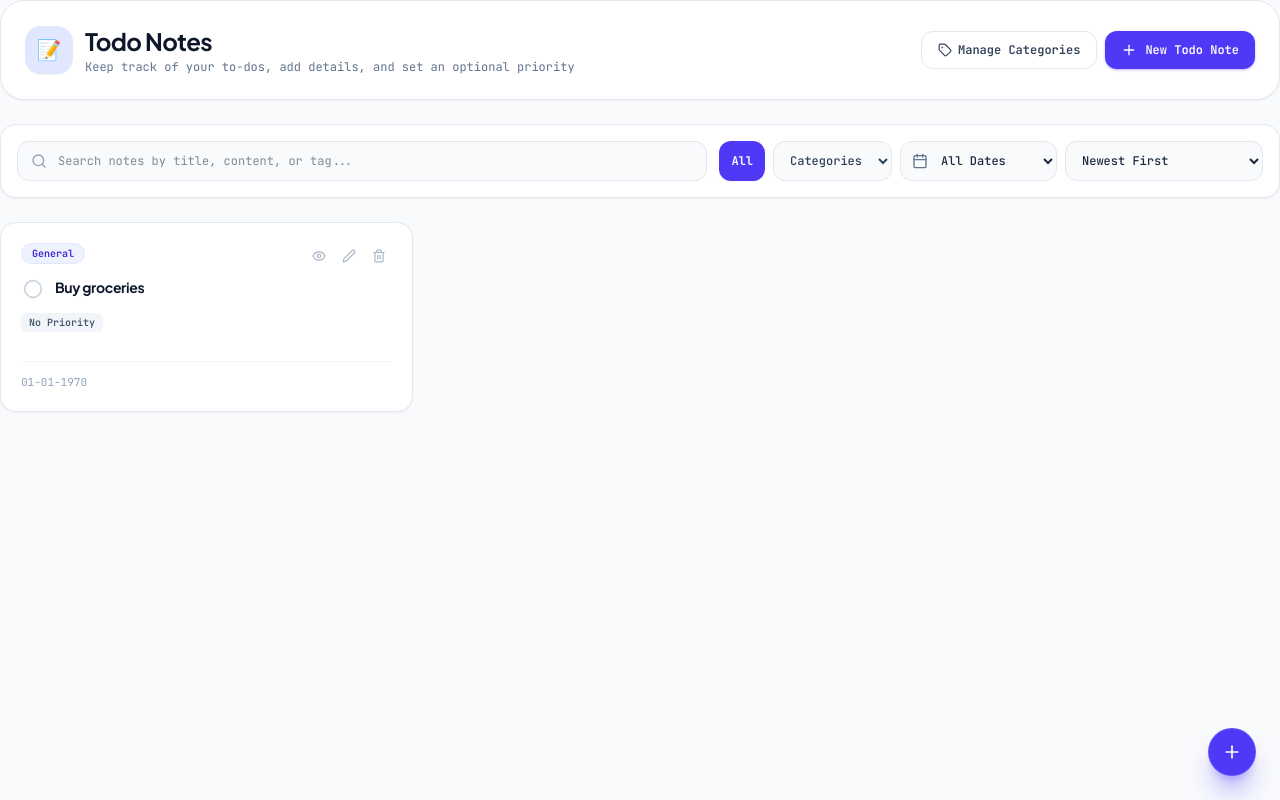
Test case: does not restore an image removed while its preview was loading
The image size is (1280, 800).
Expected: the heading "Buy groceries" is shown, [55, 277, 144, 297]
What coordinates should you click on to do the following:
click the button titled "Edit note"
I would click on:
 (349, 256)
Its box is [336, 243, 362, 269].
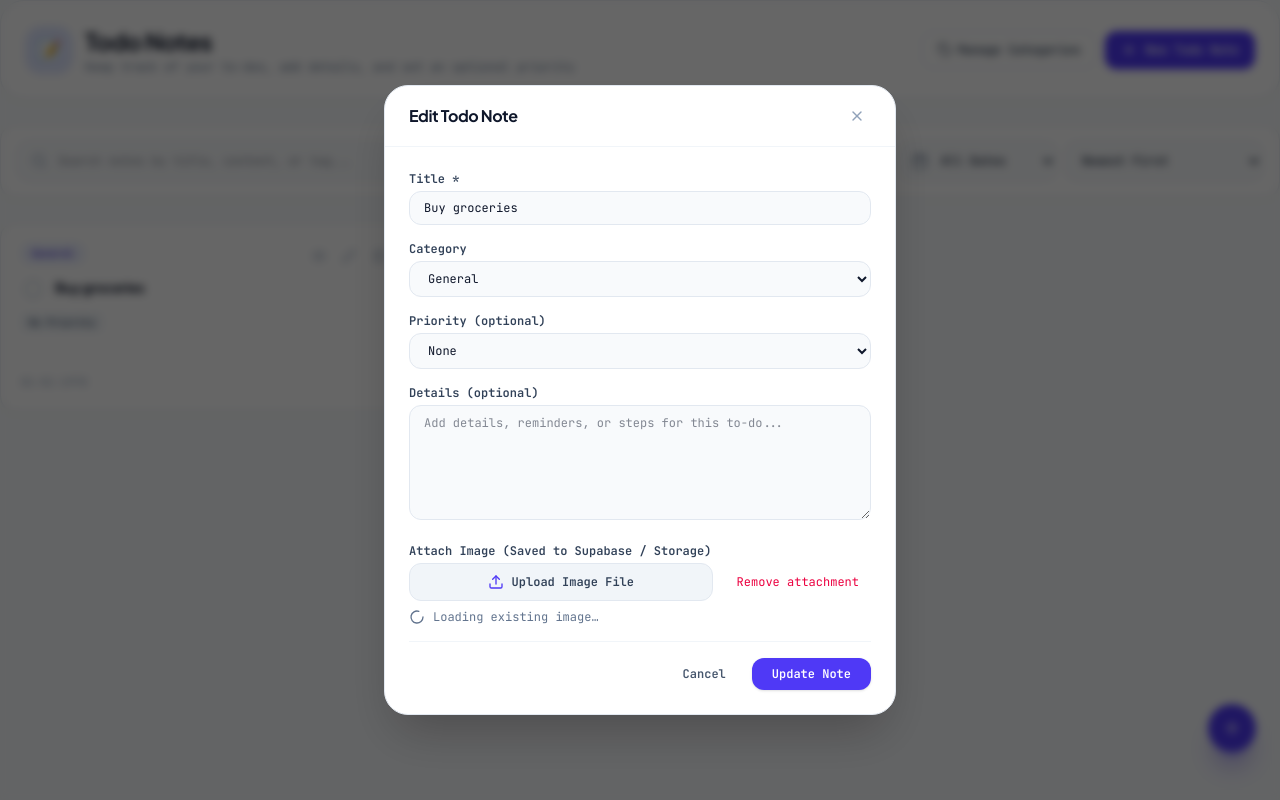
Expected: the text "Loading existing image…" is shown, [409, 609, 599, 625]
What coordinates should you click on to do the following:
click the button "Remove attachment"
I would click on:
 (798, 582)
Its box is [725, 566, 871, 598].
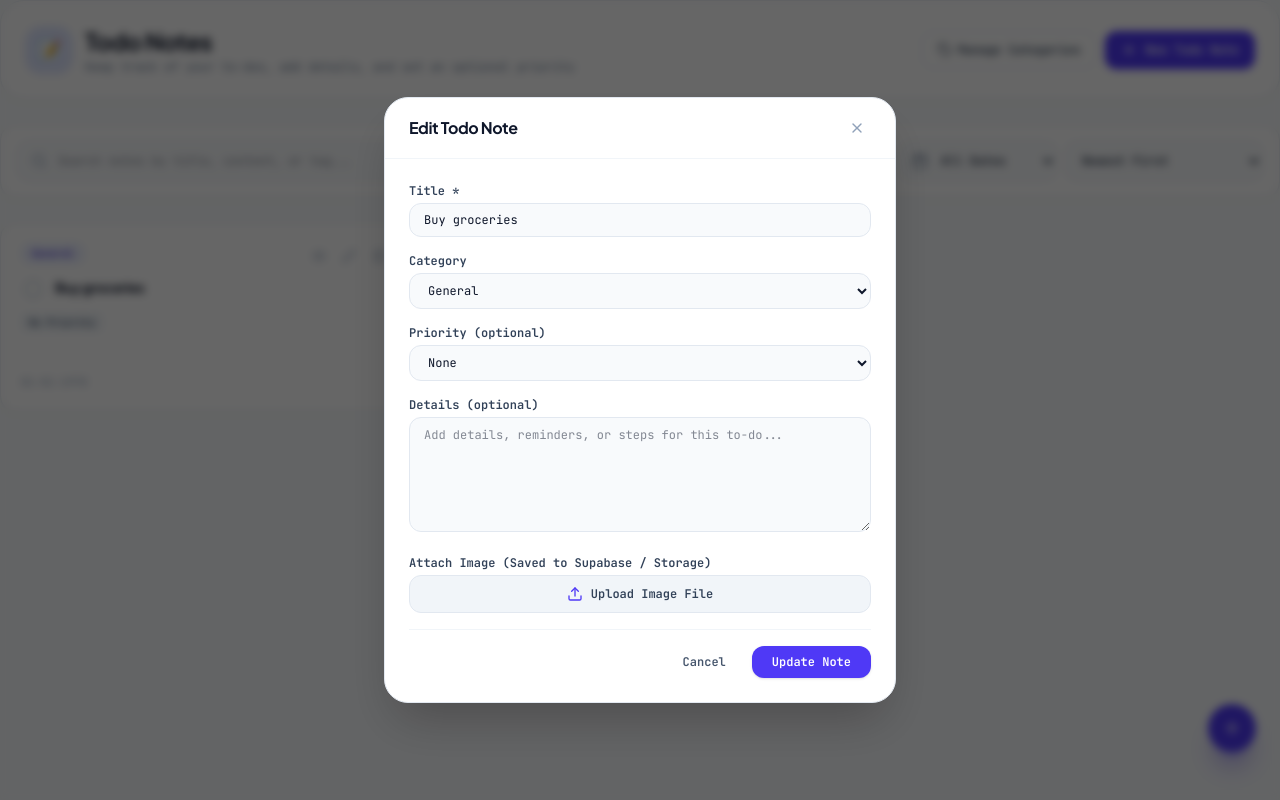
Expected: the text "Loading existing image…" is gone
